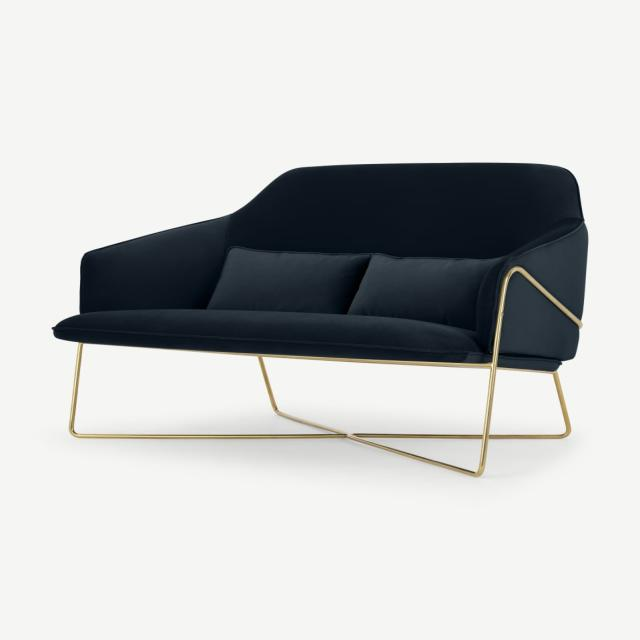Soffa: (47, 158, 596, 480)
